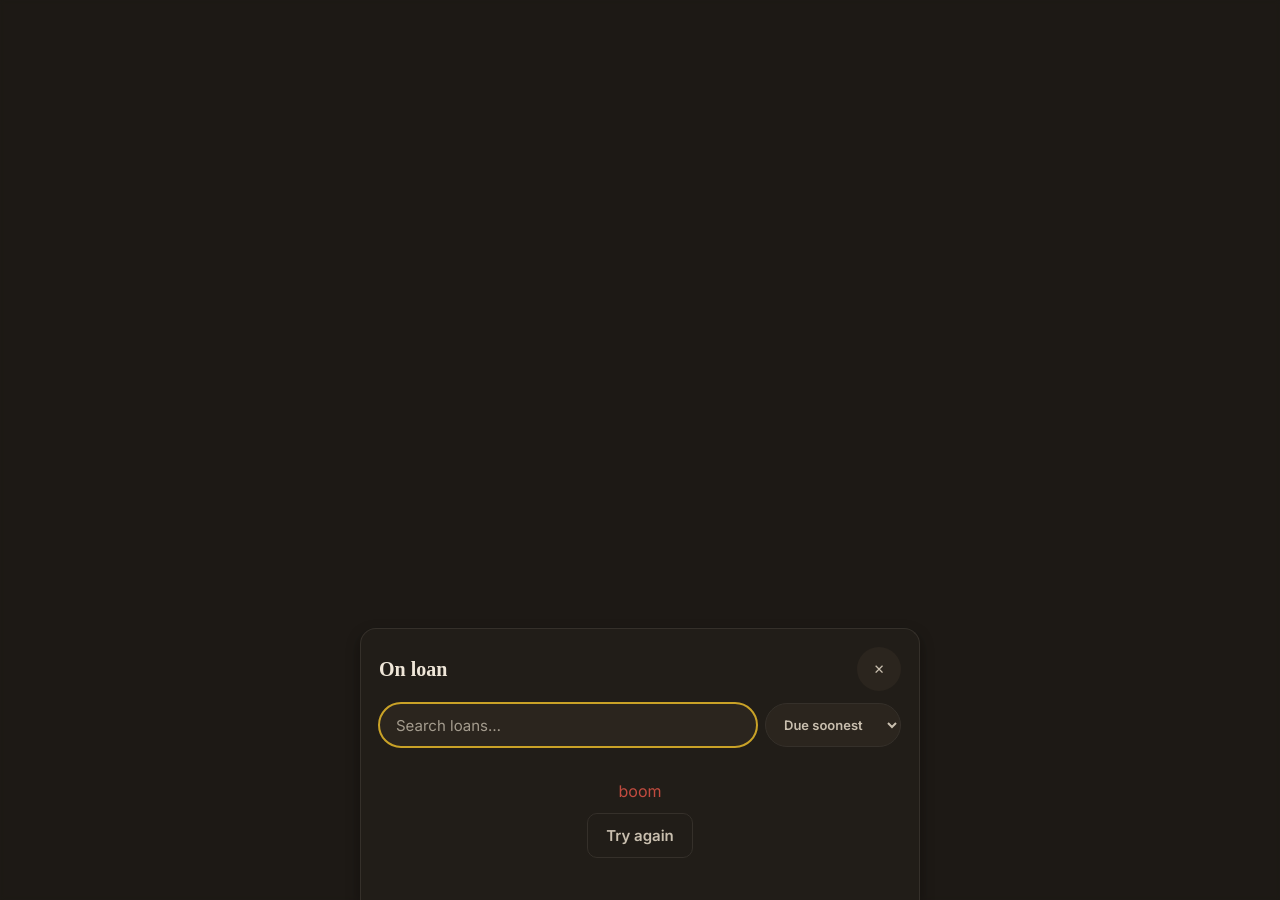
Test: LoansDashboard (W7) › shows an error state and the retry button re-fetches
Expected: the text "boom" is shown, [618, 781, 662, 801]
Click the button "Try again" at (640, 836), box [587, 813, 693, 858]
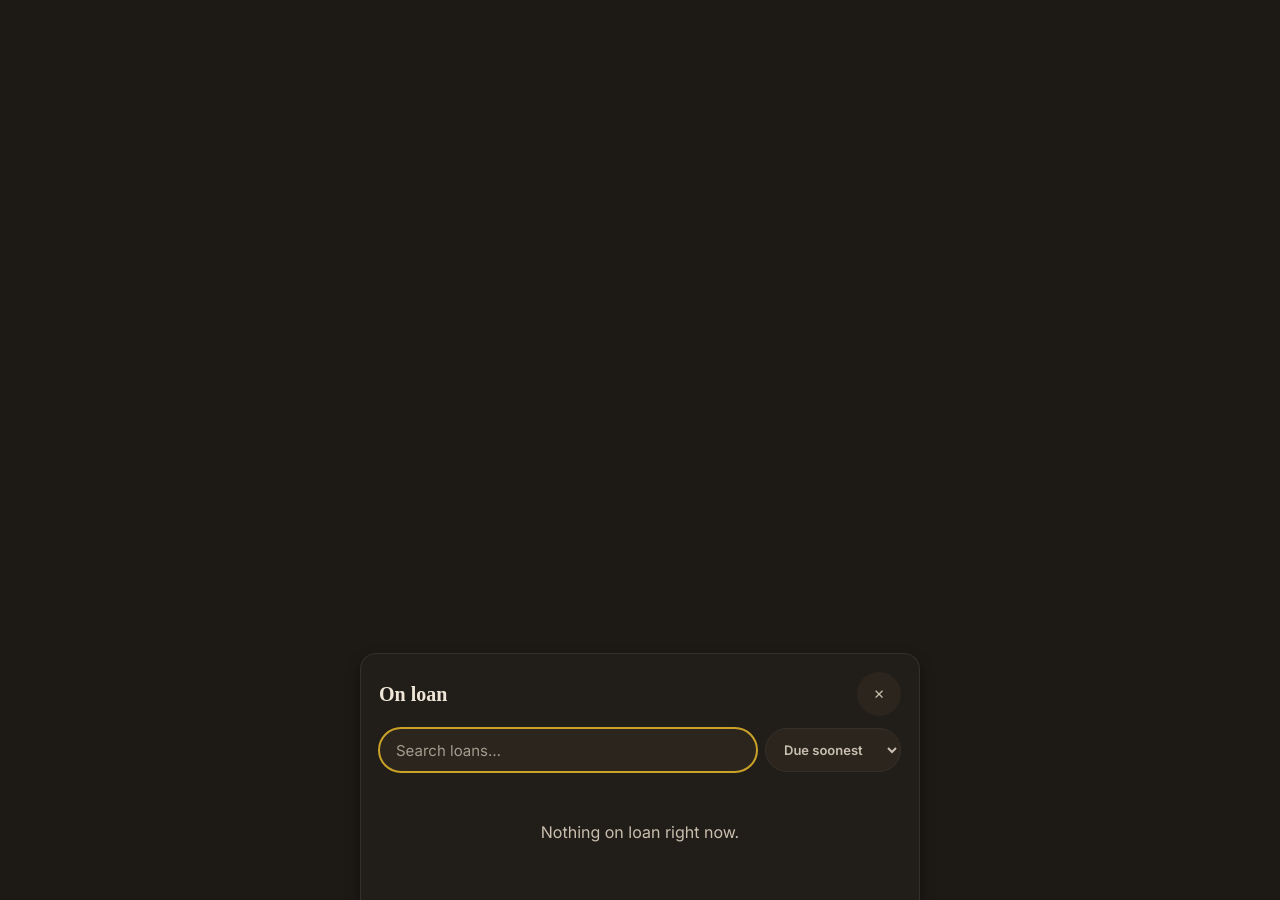
Now the text "Nothing on loan right now." is shown, box [541, 822, 739, 842]
